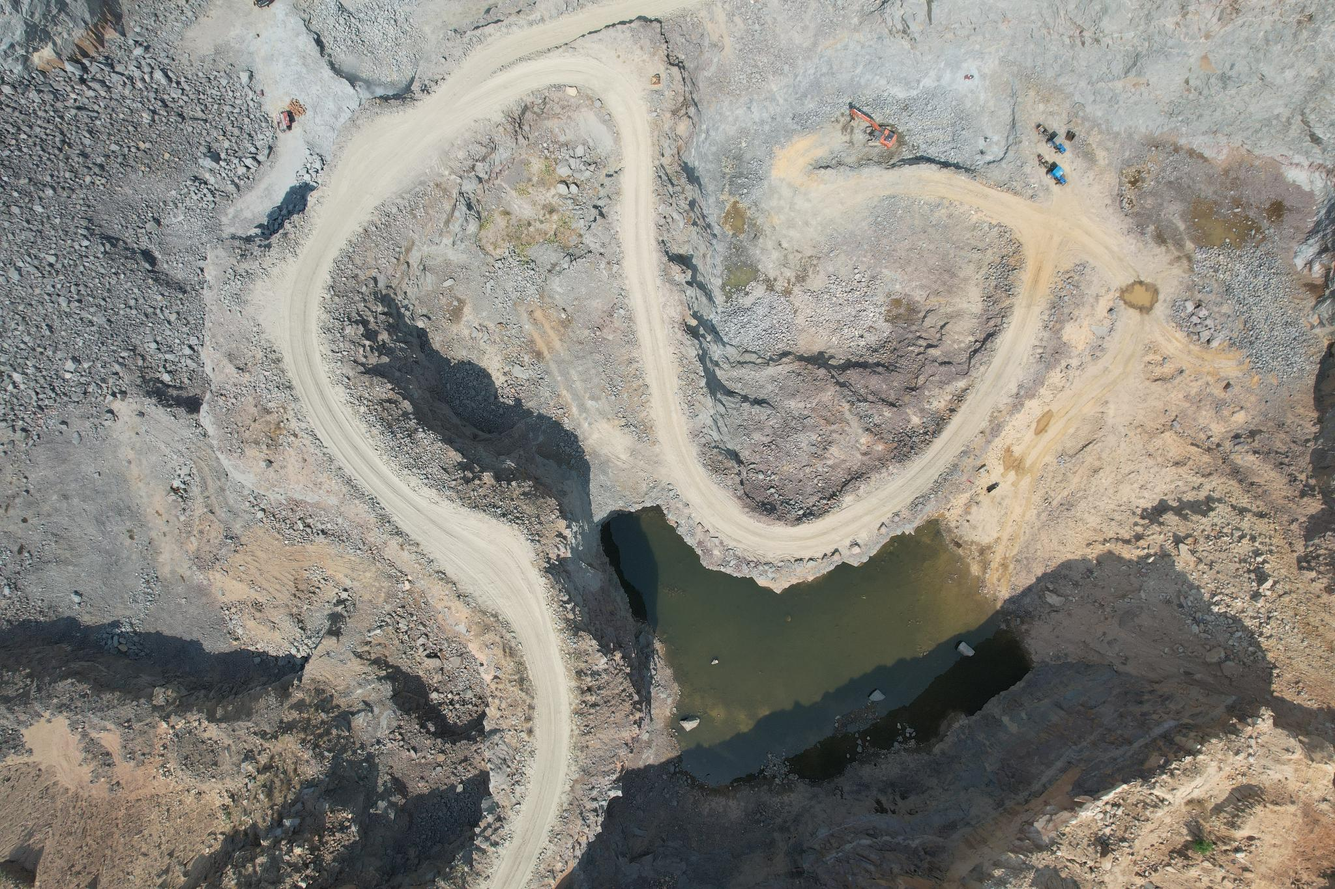benches: (264, 0, 1137, 887)
excavator: (843, 103, 902, 156)
